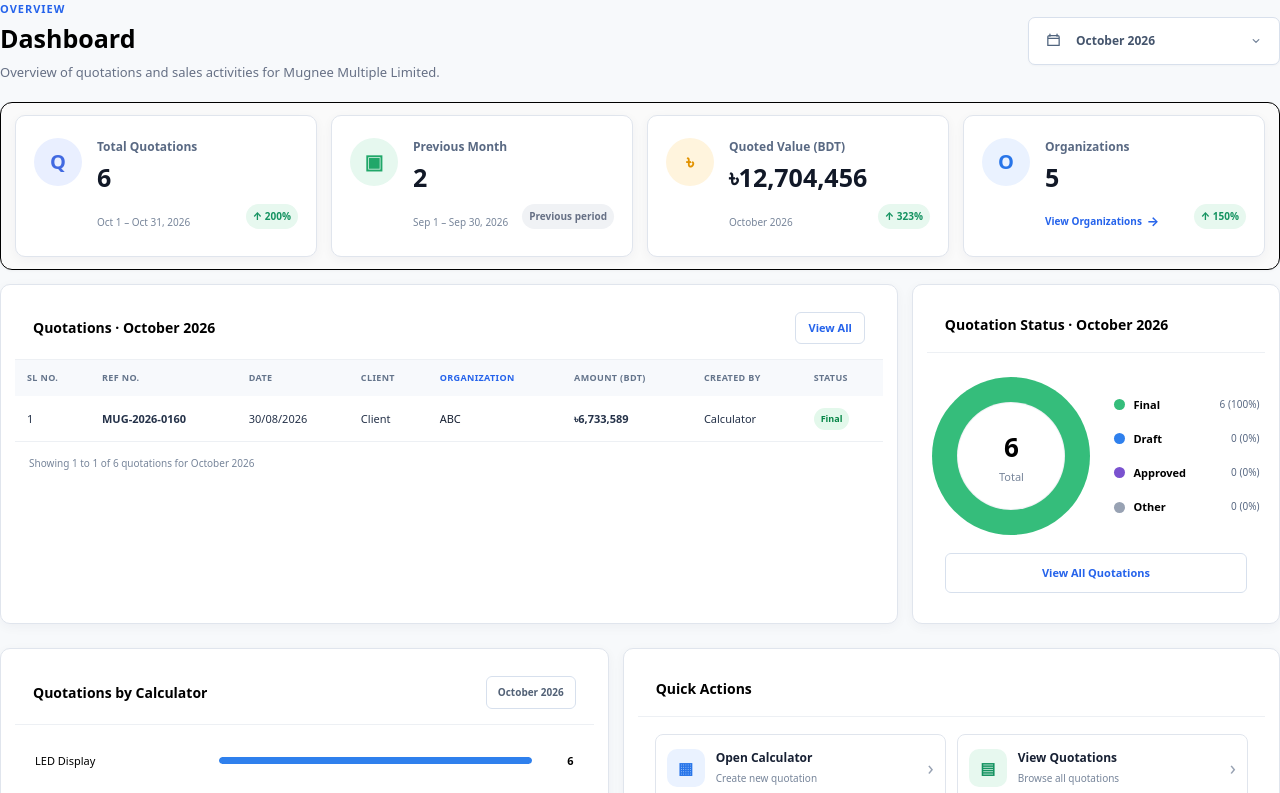
Scenario: filters every dashboard section by the selected month
The width and height of the screenshot is (1280, 793).
Step 1. Select "August 2026 · 6 quotations" in the dropdown named "Filter dashboard by month" → (1156, 41), box [1072,18,1239,64]
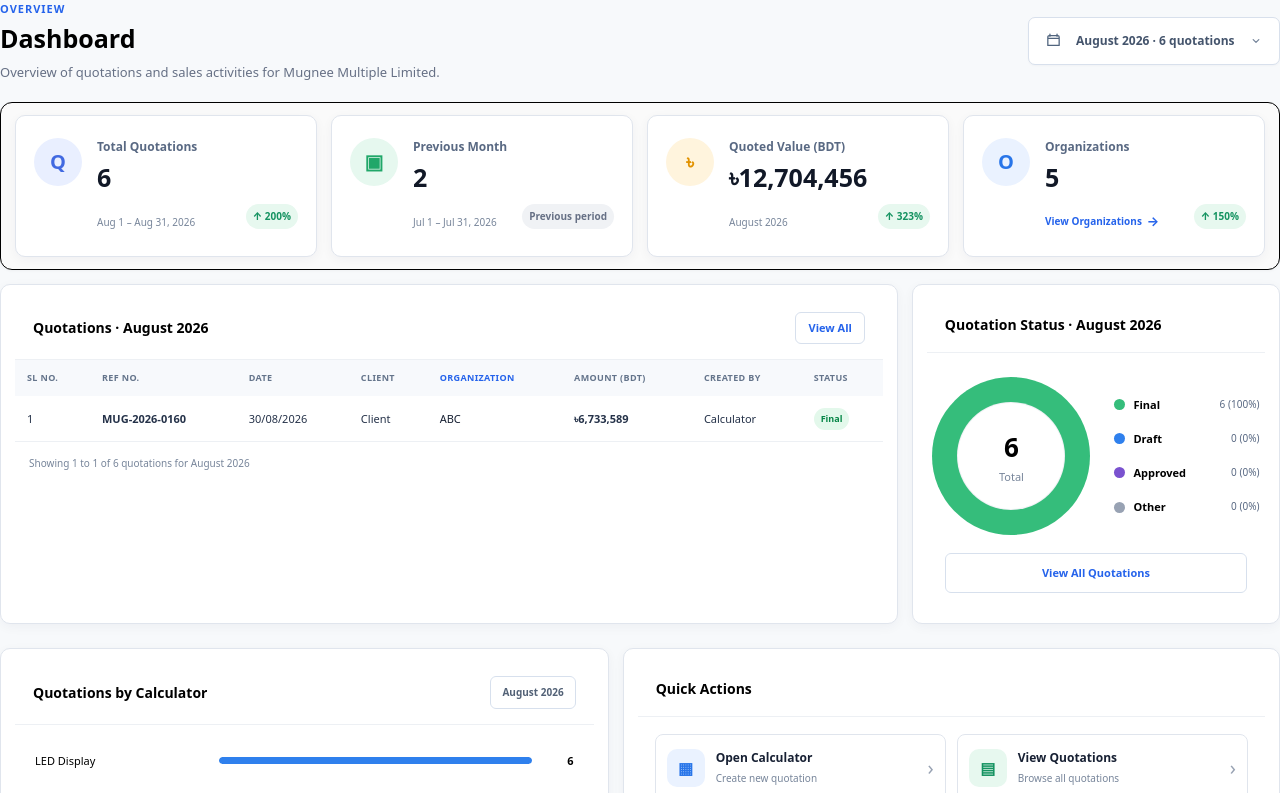
Check: the text "৳12,704,456" is shown, box [729,160,867,194]
Step 2. Click the button "View Organizations →" → (1102, 221), box [1045,214,1159,229]
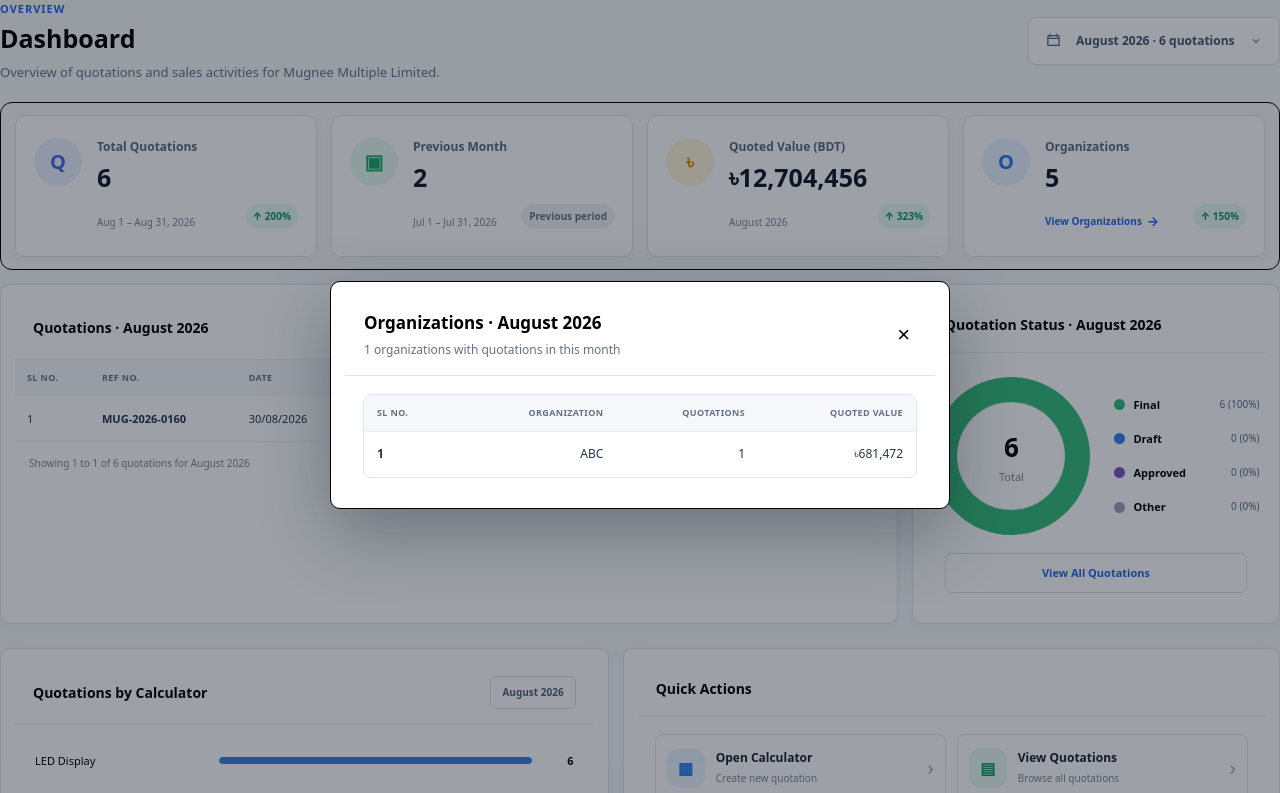
Check: the dialog "Organizations · August 2026" is shown, box [330,281,950,509]
Check: the text "ABC" is shown, box [455,431,616,477]
Step 3. Click the button named "Close organizations" → (904, 335), box [891,321,916,349]
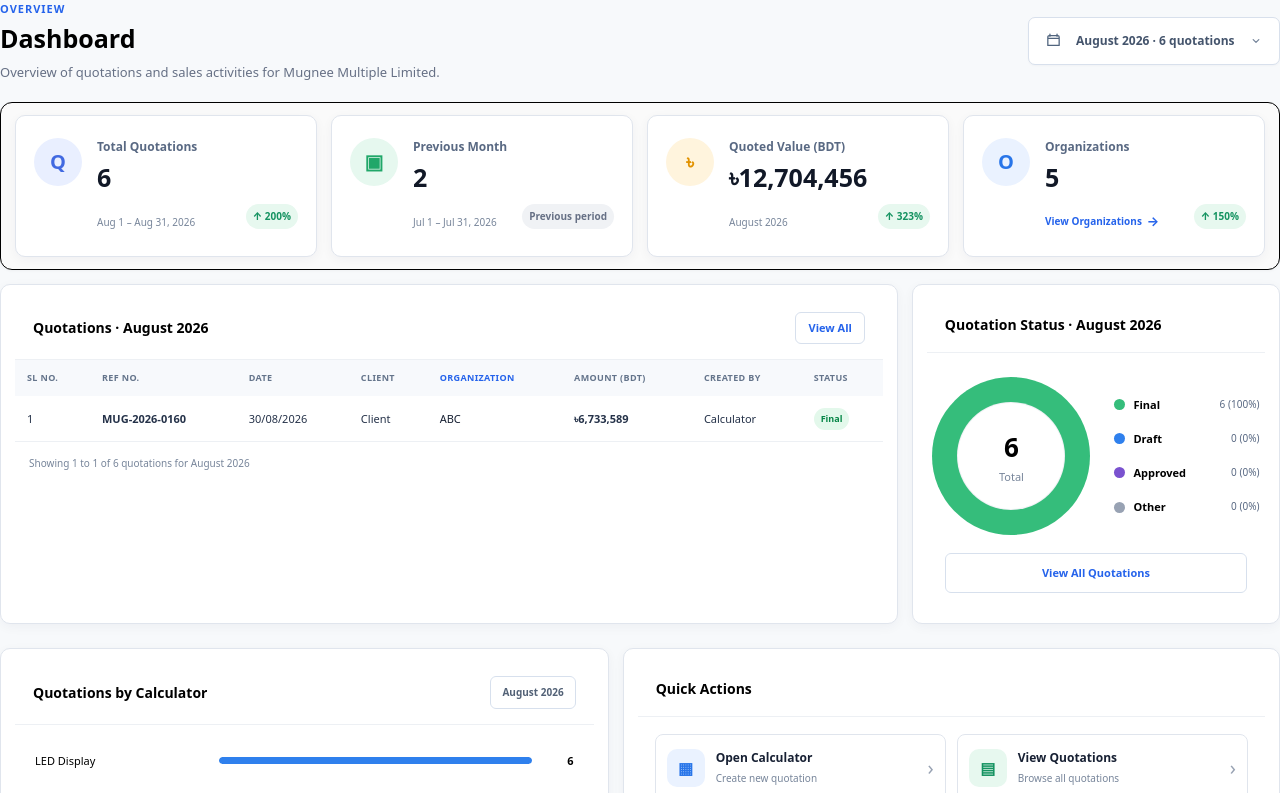
Step 4. Select "July 2026 · 2 quotations" in the dropdown named "Filter dashboard by month" → (1156, 41), box [1072,18,1239,64]
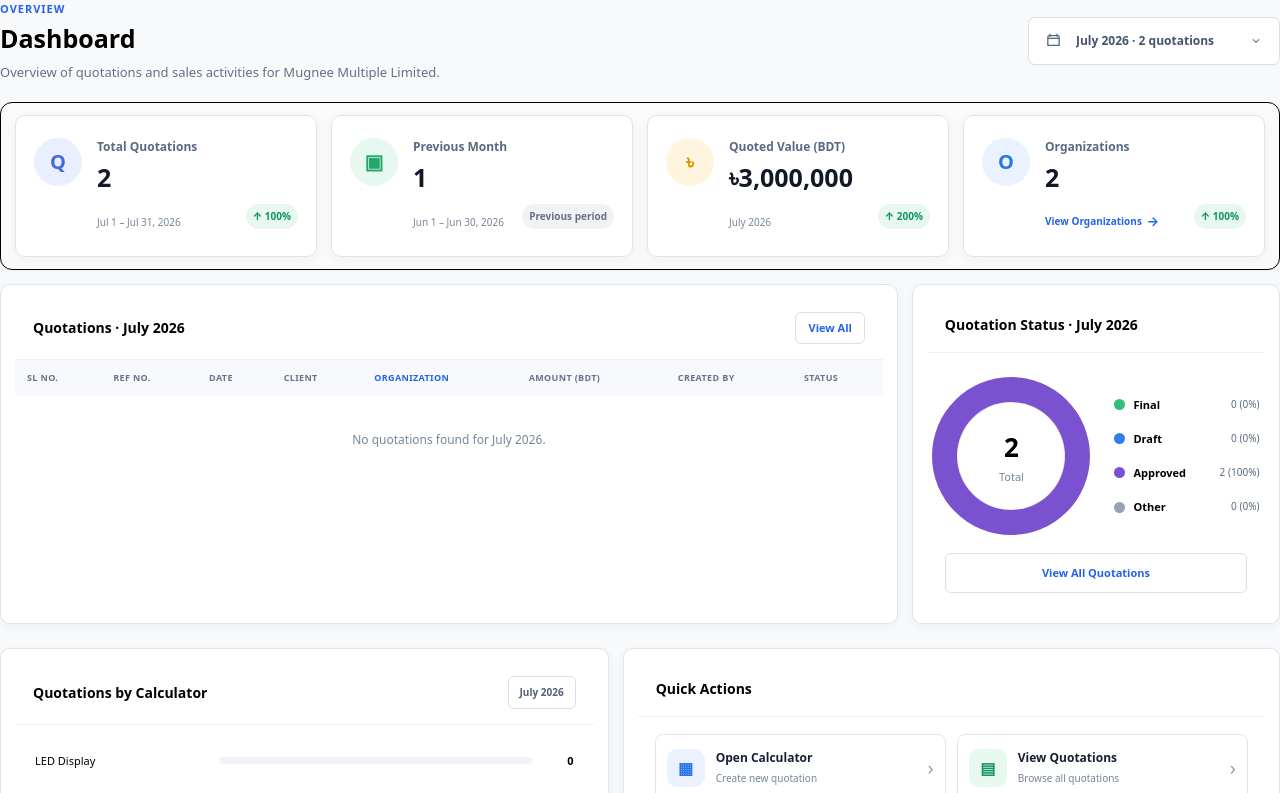
Check: the text "৳3,000,000" is shown, box [729,160,853,194]
Check: the text "No quotations found for July 2026." is shown, box [352,431,546,448]
Check: the heading "Quotation Status · July 2026" is shown, box [945,314,1138,335]
